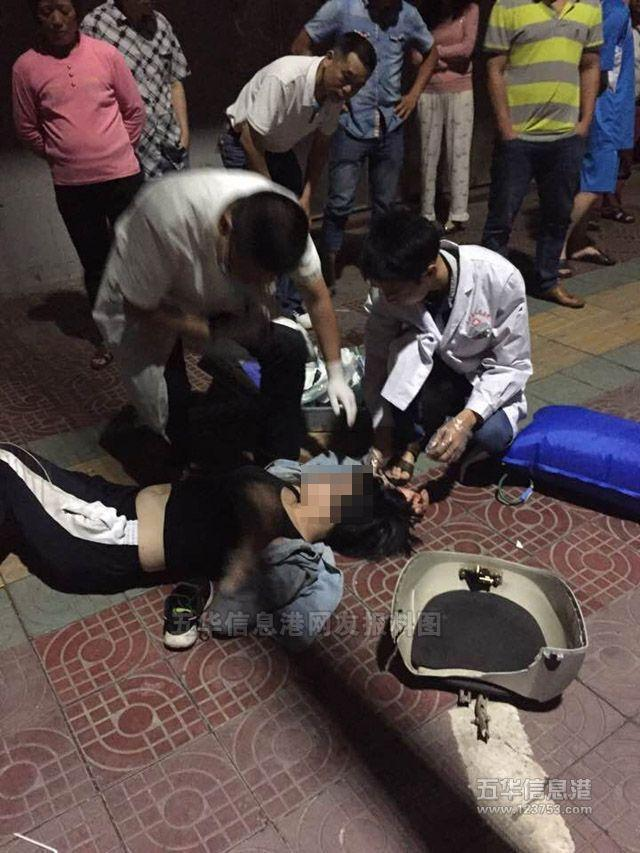Fall-Detected: (0, 401, 421, 652)
